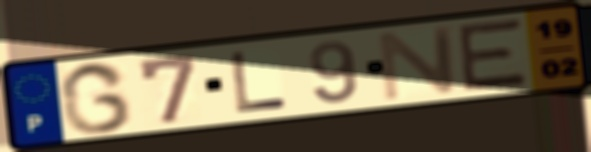7: (134, 53, 199, 125)
9: (306, 39, 360, 106)
E: (456, 16, 531, 94)
G: (57, 59, 135, 136)
L: (227, 49, 290, 114)
N: (375, 23, 461, 104)
